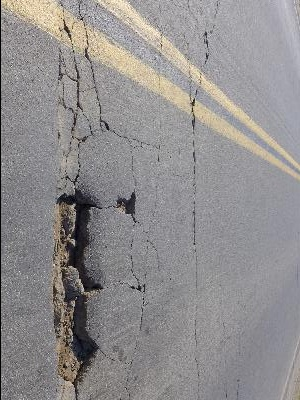pothole: (50, 182, 105, 389), (115, 189, 139, 218)
